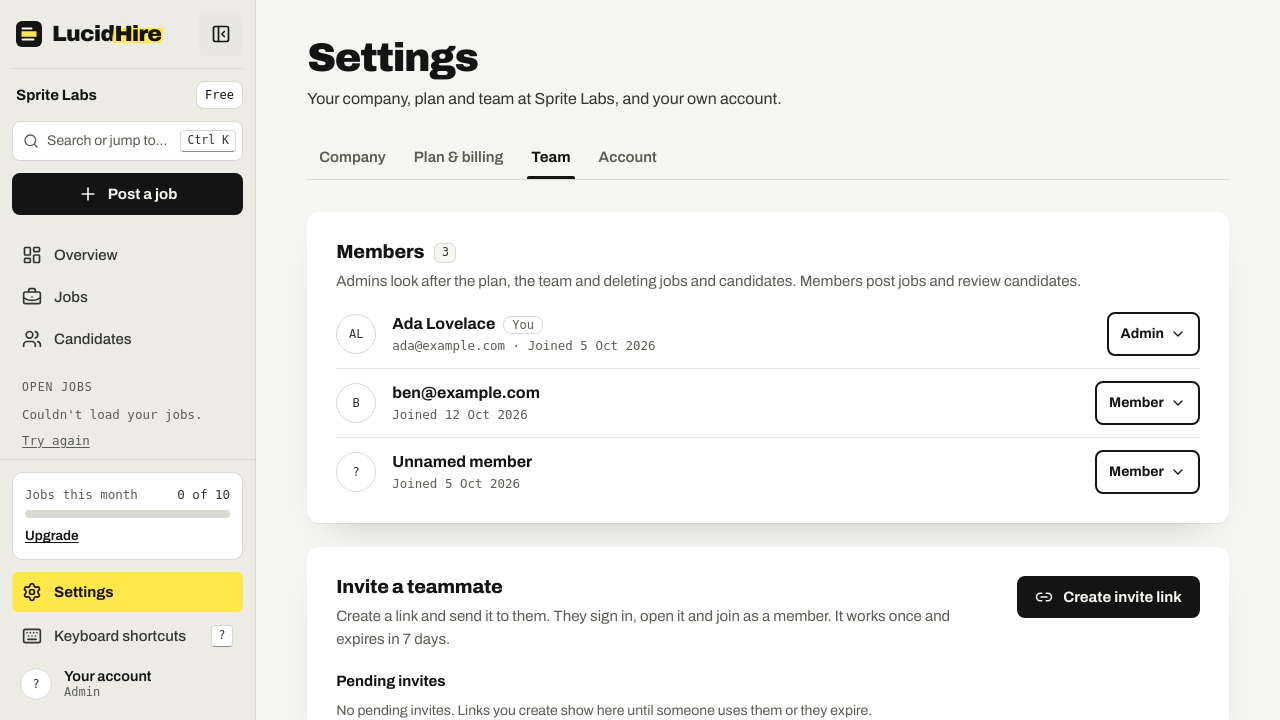
Test: inviting a teammate › creates a link, copies it, and lists it as pending until it is revoked
Expected: the text "No pending invites" is shown, left=336, top=702, right=872, bottom=718
Click the button "Create invite link" at (1109, 598), box left=1017, top=576, right=1200, bottom=618
(page scrolled)
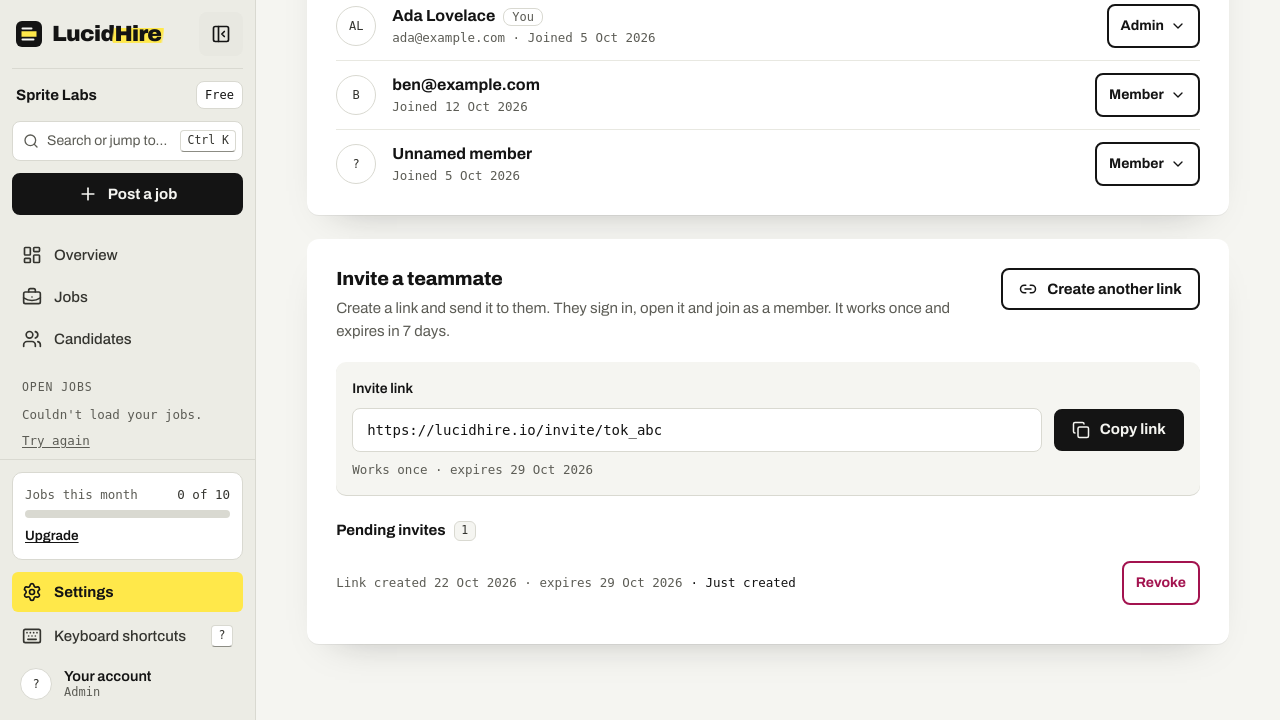
Expected: the field labelled "Invite link" holds "https://lucidhire.io/invite/tok_abc", left=352, top=408, right=1042, bottom=452
Expected: the text "Works once · expires 29 Oct 2026" is shown, left=352, top=462, right=593, bottom=477
Expected: the button "Create another link" is shown, left=1001, top=268, right=1200, bottom=310
Click the button "Copy link" at (1119, 430), box left=1054, top=409, right=1184, bottom=451
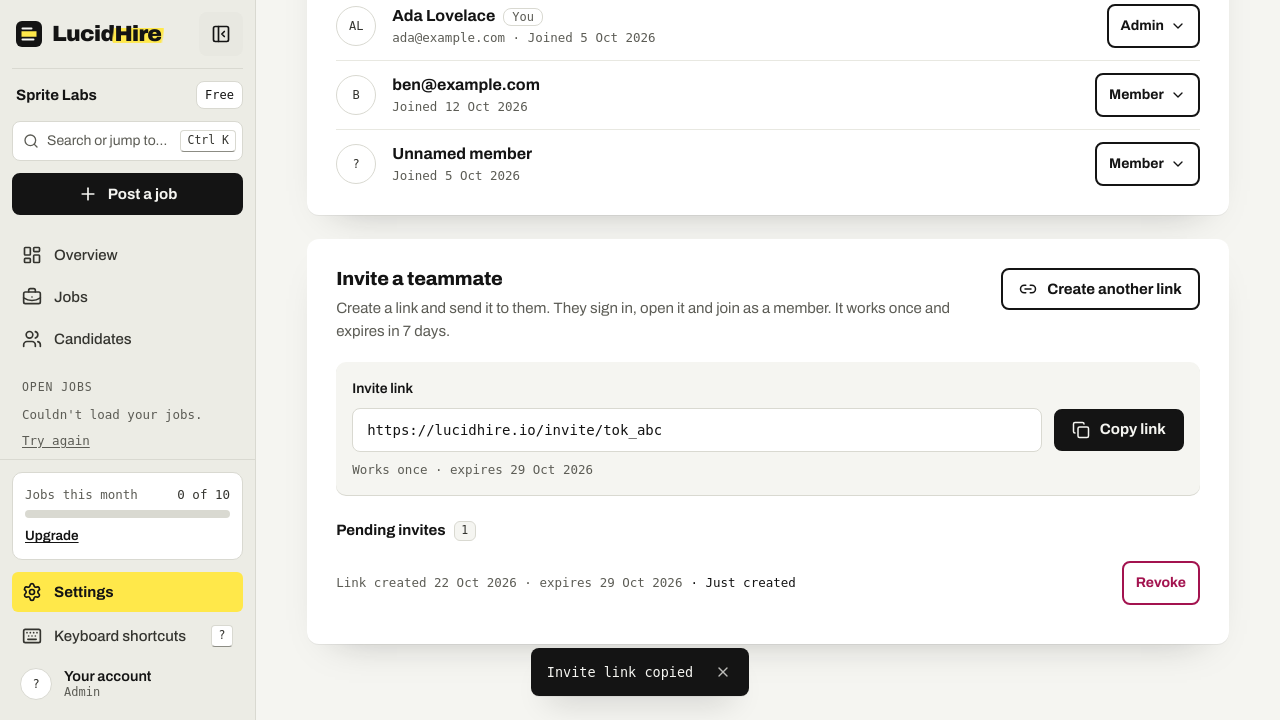
Expected: the text "Link created 22 Oct 2026 · expires 29 Oct 2026· Just created" is shown, left=336, top=574, right=796, bottom=591
Expected: the text "Invite link copied" is shown, left=547, top=664, right=693, bottom=680
Click the button with aria-label "Revoke the invite created 22 Oct 2026" at (1161, 583), box left=1122, top=561, right=1200, bottom=605
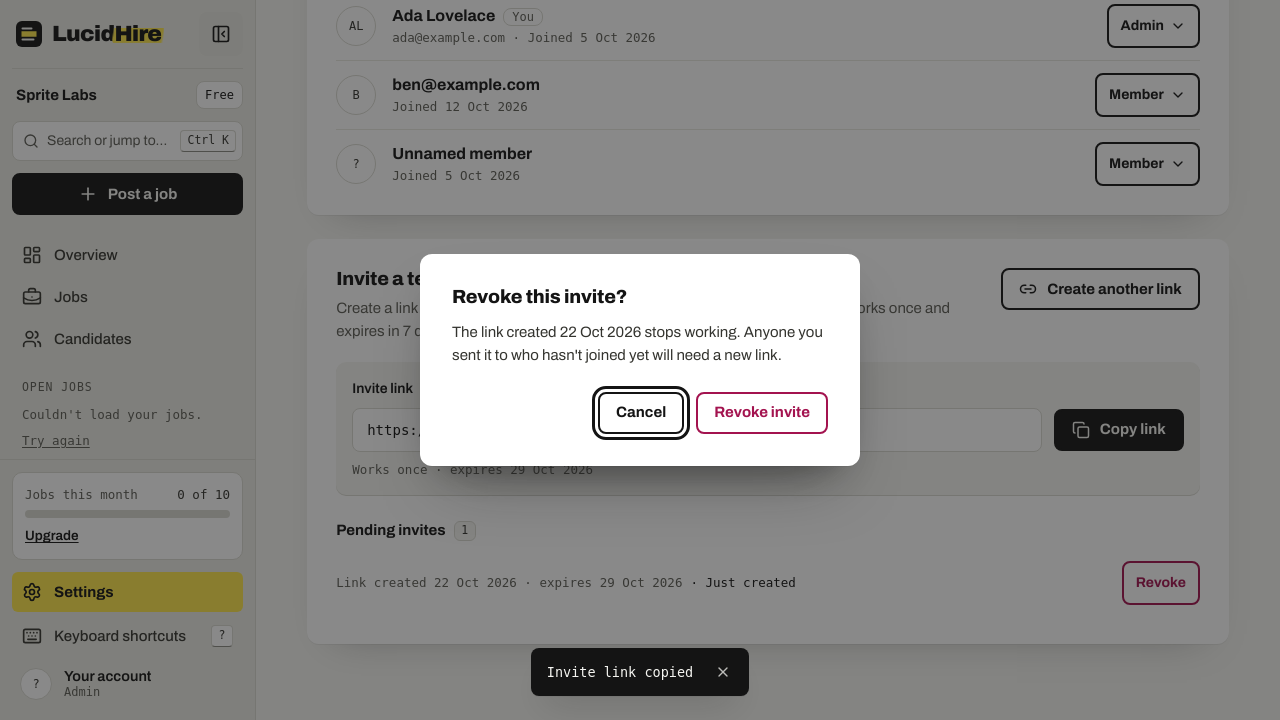
Click the button "Revoke invite" at (762, 413), box left=696, top=392, right=828, bottom=434
(page scrolled)
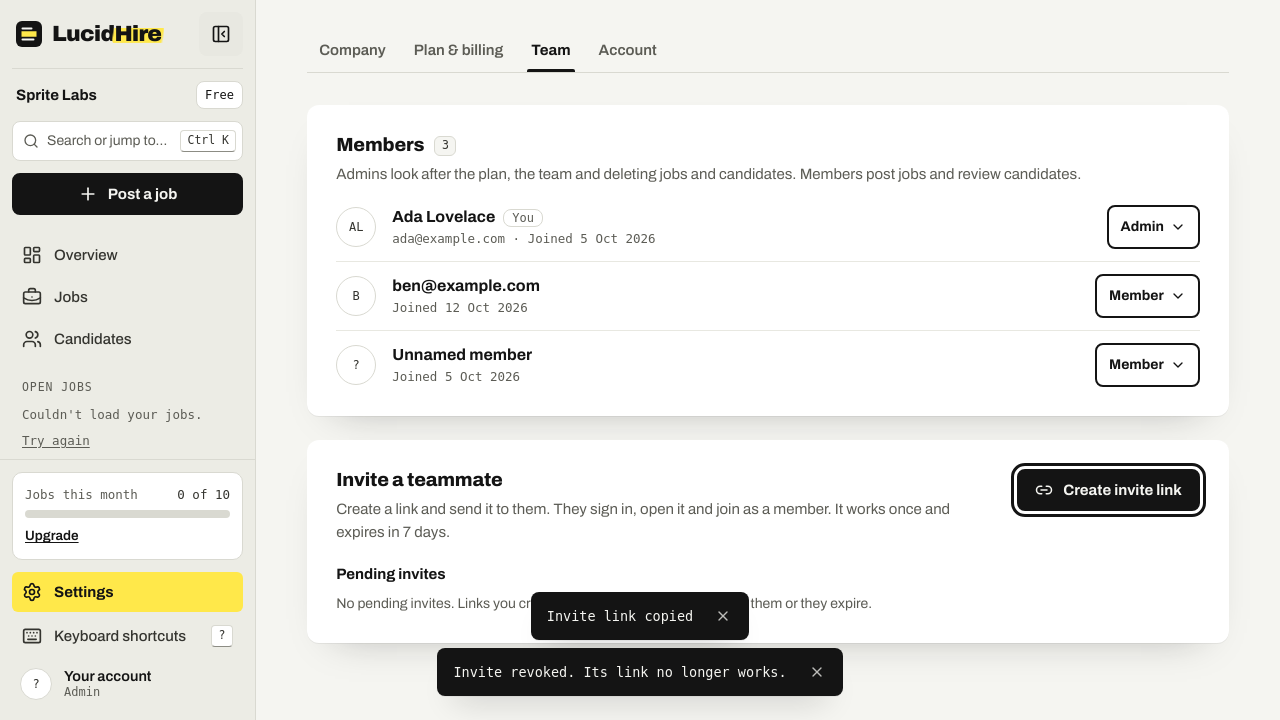
Expected: the text "Link created" is gone
Expected: the dialog is gone
Expected: the text "Invite revoked. Its link no longer works." is shown, left=453, top=664, right=787, bottom=680
